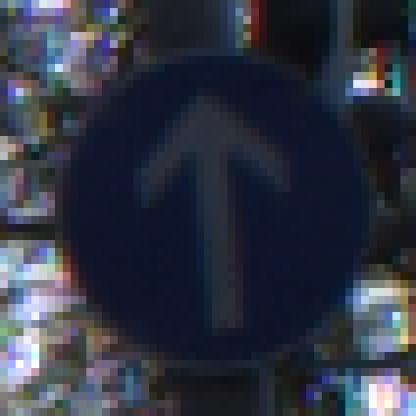AheadOnly: (48, 41, 378, 377)
